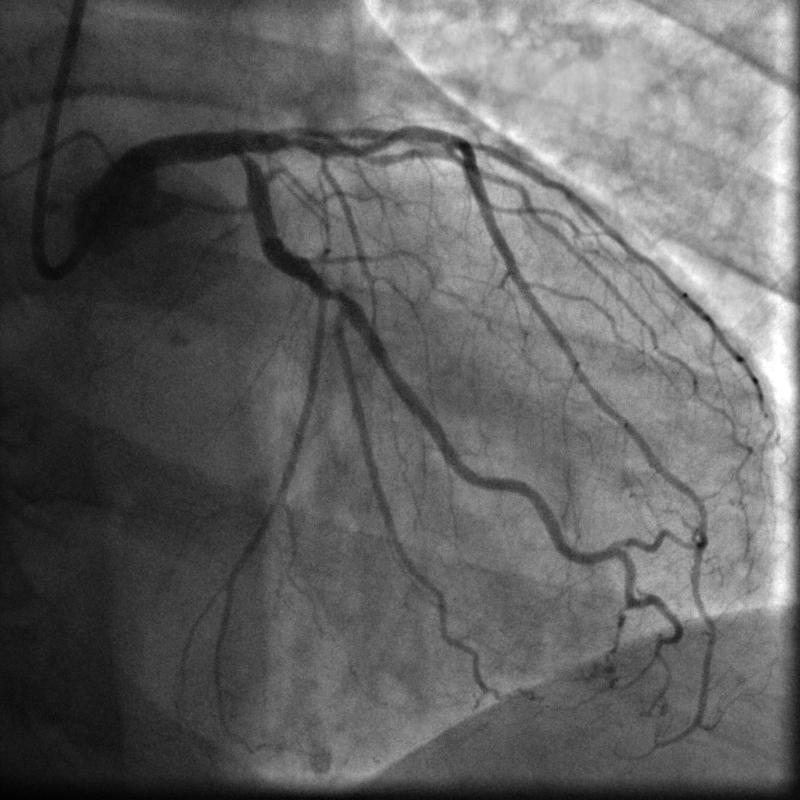Stenosis: (322, 282, 348, 305)
